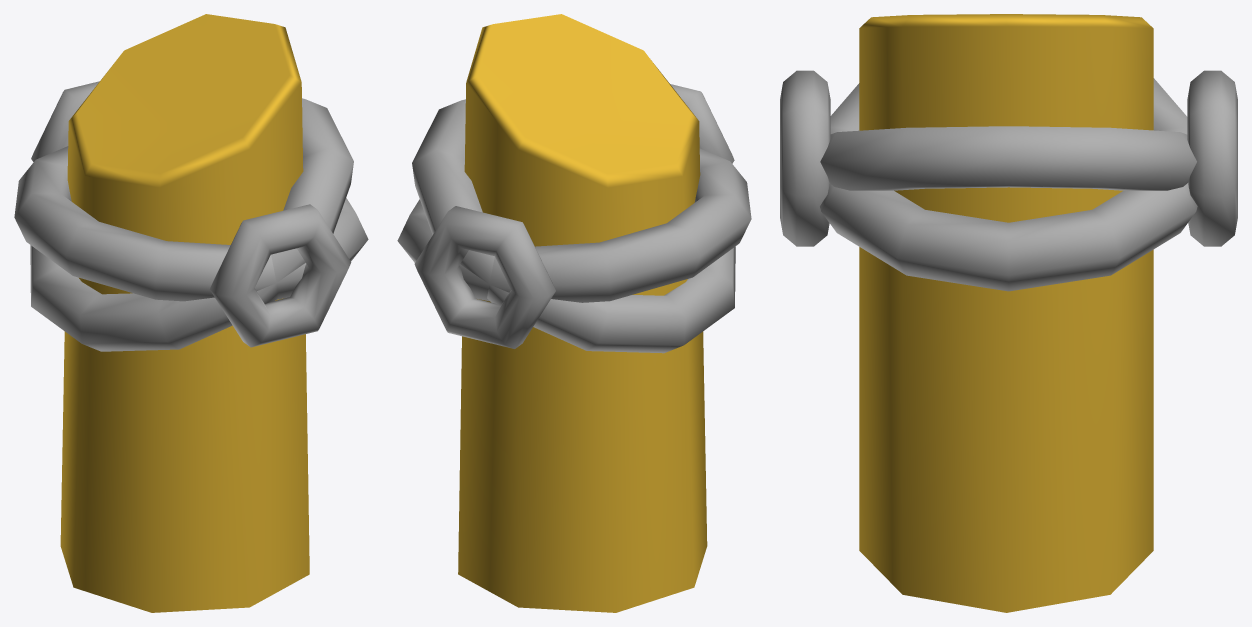
The model's file is Bridge_column2.fbx.
3 views of the same model, side by side, from view 1: azimuth 30°, elevation 25°; view 2: azimuth 150°, elevation 25°; view 3: azimuth 270°, elevation 25° (orthographic). The views are drawn at different scales.
Visible parts, largest first — view 1: polySurface34, pTorus13, pTorus14, pTorus16, pTorus17; view 2: polySurface34, pTorus13, pTorus14, pTorus17, pTorus16; view 3: polySurface34, pTorus14, pTorus13, pTorus17, pTorus16.
Part boxes in pixels (left/top/right/bottom): polySurface34: left=60, top=14, right=309, bottom=612; pTorus13: left=30, top=98, right=353, bottom=351; pTorus14: left=14, top=146, right=368, bottom=301; pTorus16: left=209, top=204, right=351, bottom=347; pTorus17: left=31, top=81, right=99, bottom=161; polySurface34: left=458, top=14, right=707, bottom=612; pTorus13: left=412, top=99, right=735, bottom=353; pTorus14: left=397, top=148, right=751, bottom=302; pTorus17: left=414, top=206, right=555, bottom=348; pTorus16: left=670, top=84, right=734, bottom=163; polySurface34: left=859, top=14, right=1153, bottom=612; pTorus14: left=820, top=78, right=1197, bottom=291; pTorus13: left=820, top=126, right=1196, bottom=190; pTorus17: left=1187, top=70, right=1237, bottom=246; pTorus16: left=780, top=70, right=830, bottom=246.
Size of the model in its own units: 72.54 by 117 by 82.81.
